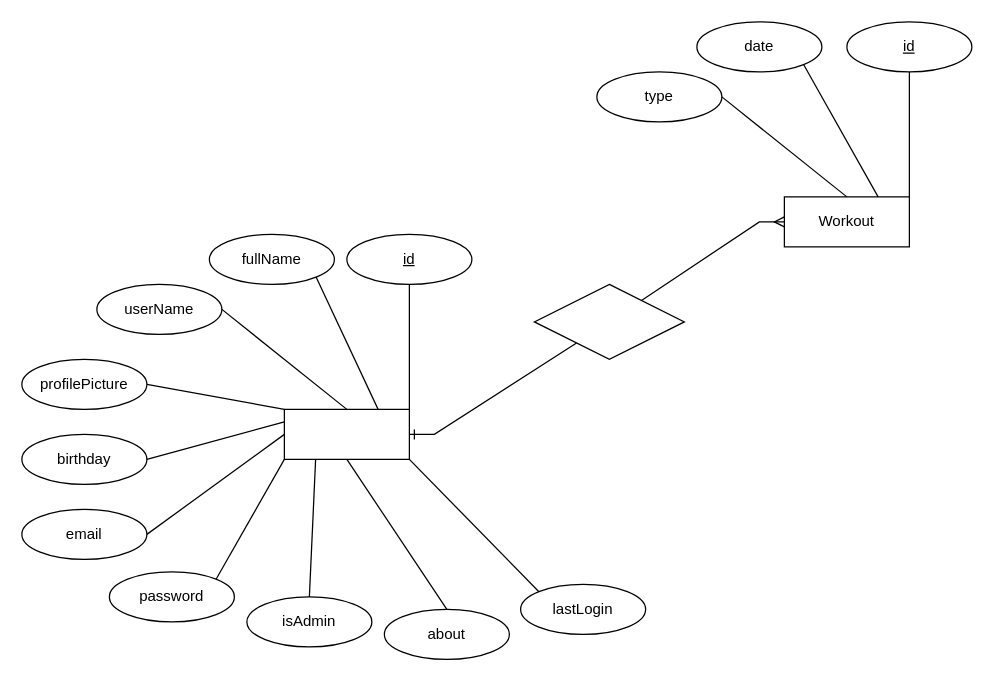
Some shapes in this 994 by 681 pixel diagram are drawn without their labels. Each missing label, with the centre of its shape:
"do" goes at (x=608, y=321).
"User" goes at (x=346, y=433).
